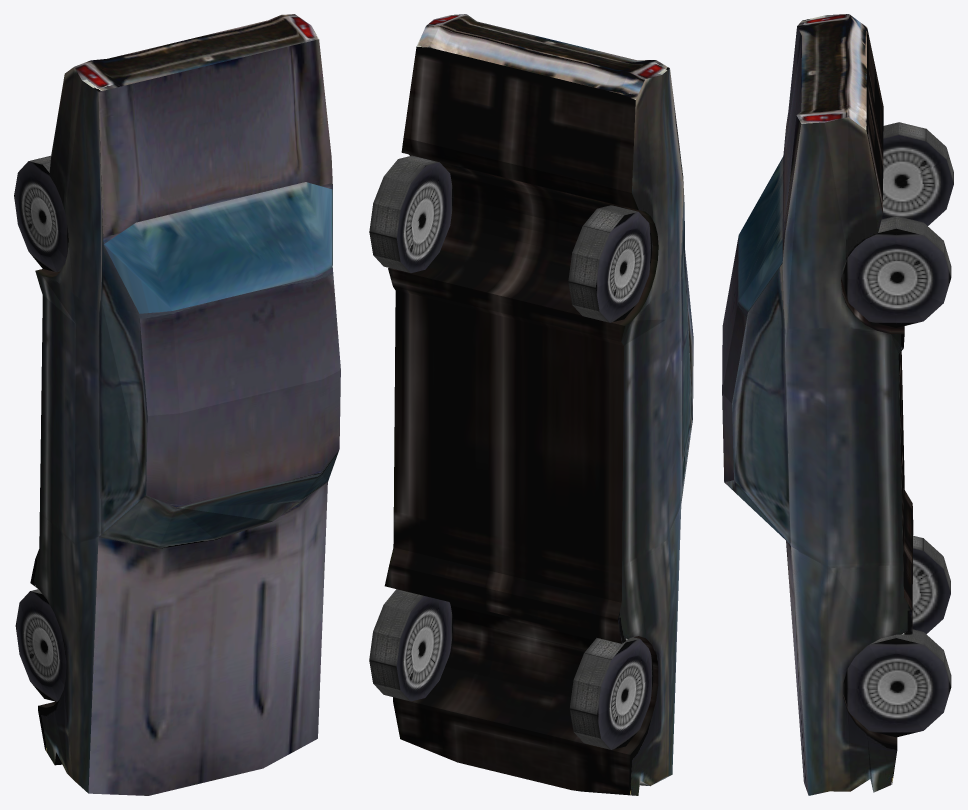
File: carpack_gt5_wtf.obj
3 views of the same model, side by side, from view 1: azimuth 30°, elevation 25°; view 2: azimuth 150°, elevation 25°; view 3: azimuth 270°, elevation 25° (orthographic). The views are drawn at different scales.
Visible parts, largest first — view 1: group2; view 2: group2; view 3: group2.
Boxes of the visible parts, left/top/right/bottom form: group2: left=14, top=14, right=340, bottom=795; group2: left=369, top=14, right=693, bottom=795; group2: left=722, top=14, right=953, bottom=795.
Size of the model in its own units: 228 by 660 by 200.
